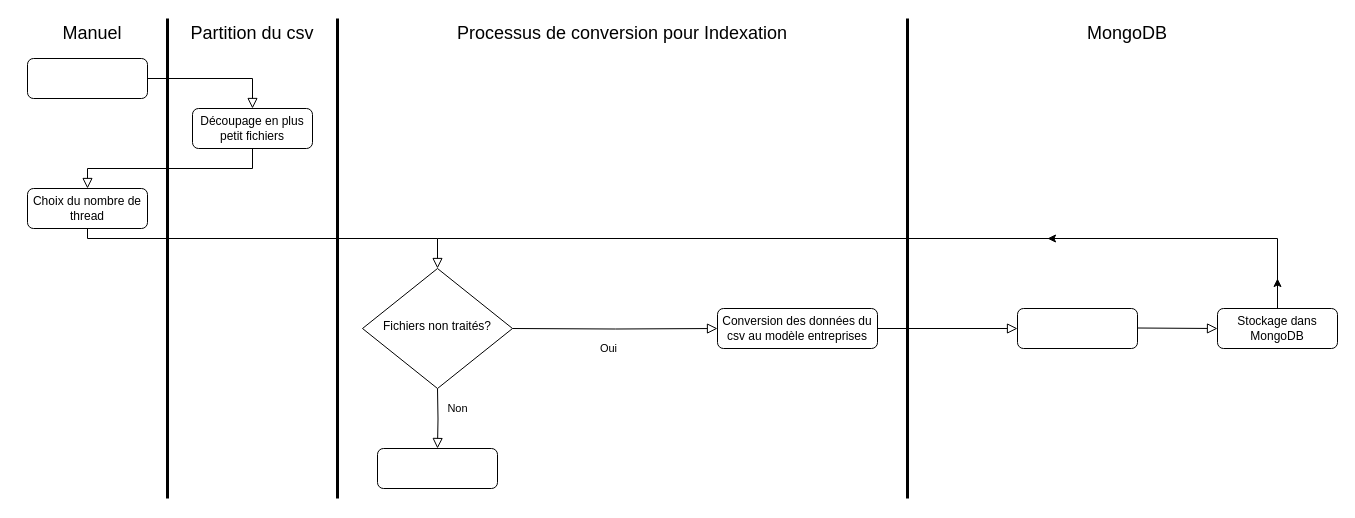
This 1355x518 diagram has some shape labels left out. Here are the shapes that lost their labels. From the top down, the box of each, then its label:
(26, 58, 148, 98): Téléchargement du CSV
(1016, 308, 1138, 348): Indexation
(376, 448, 498, 488): Fin de l'opération
